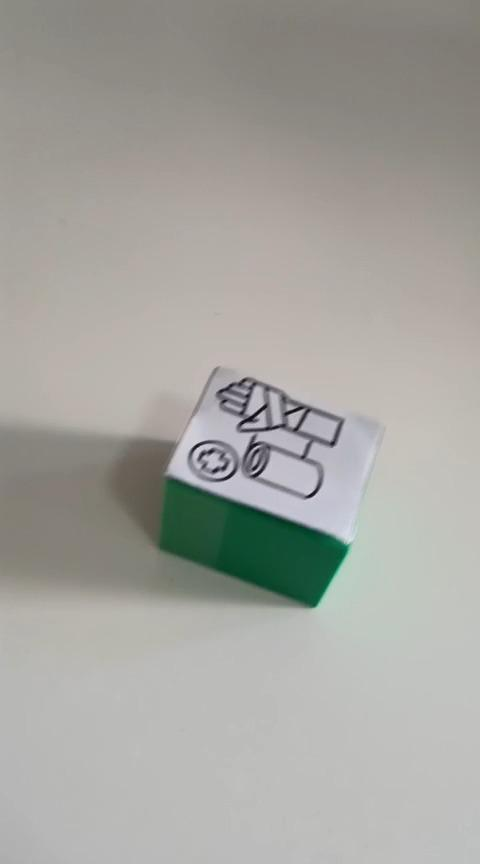Bandages: (157, 364, 386, 608)
